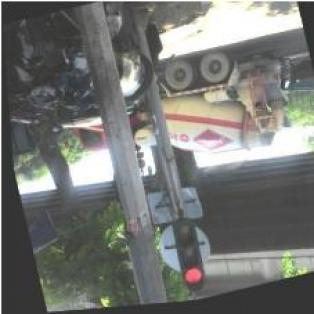Semaforo Rojo: (165, 220, 204, 296)
